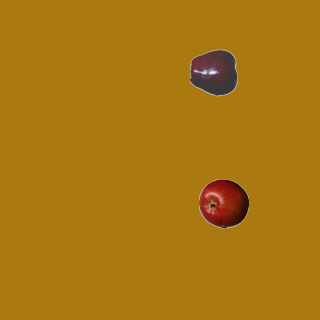Apple Braeburn: (198, 178, 248, 228)
Apple Red Delicious: (189, 47, 239, 97)
